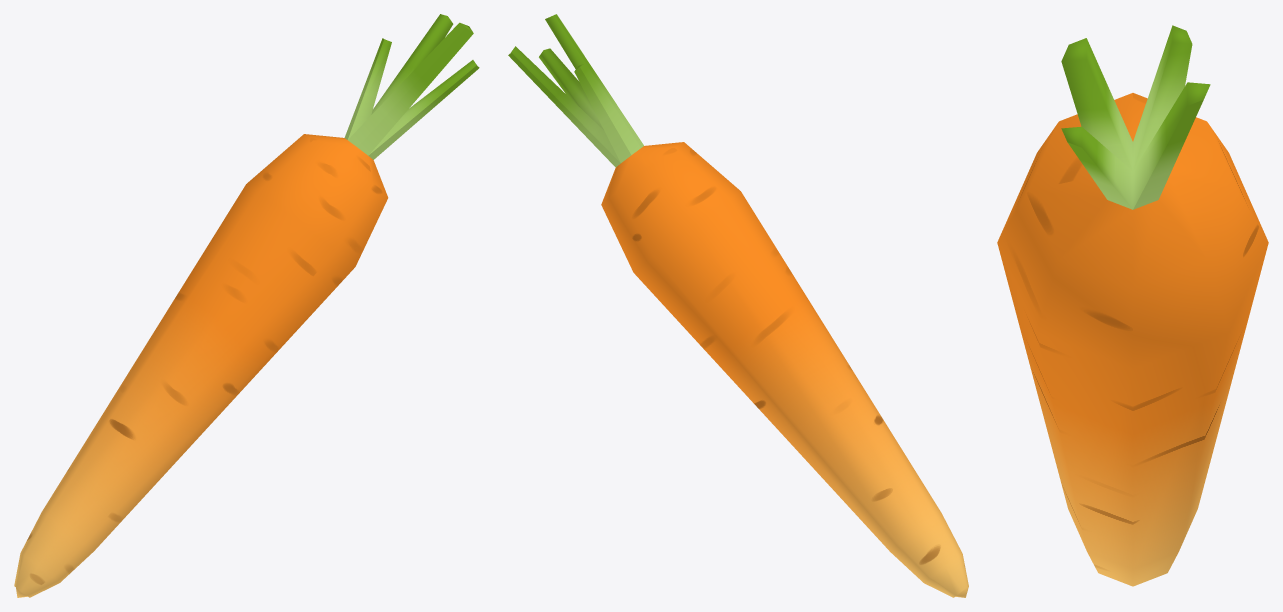
File: carrot.glb
The picture shows the model from 3 angles, left to right: view 1: azimuth 30°, elevation 25°; view 2: azimuth 150°, elevation 25°; view 3: azimuth 270°, elevation 25°; orthographic projection. The views are drawn at different scales.
Parts seen in each view (by area): view 1: Carrot; view 2: Carrot; view 3: Carrot.
Boxes of the visible parts, x1=… form: Carrot: x1=14, y1=14, x2=479, y2=597; Carrot: x1=508, y1=14, x2=968, y2=597; Carrot: x1=997, y1=25, x2=1268, y2=586.
Size of the model in its own units: 3.43 by 3.49 by 0.9082.
2 materials, 2 textured.
